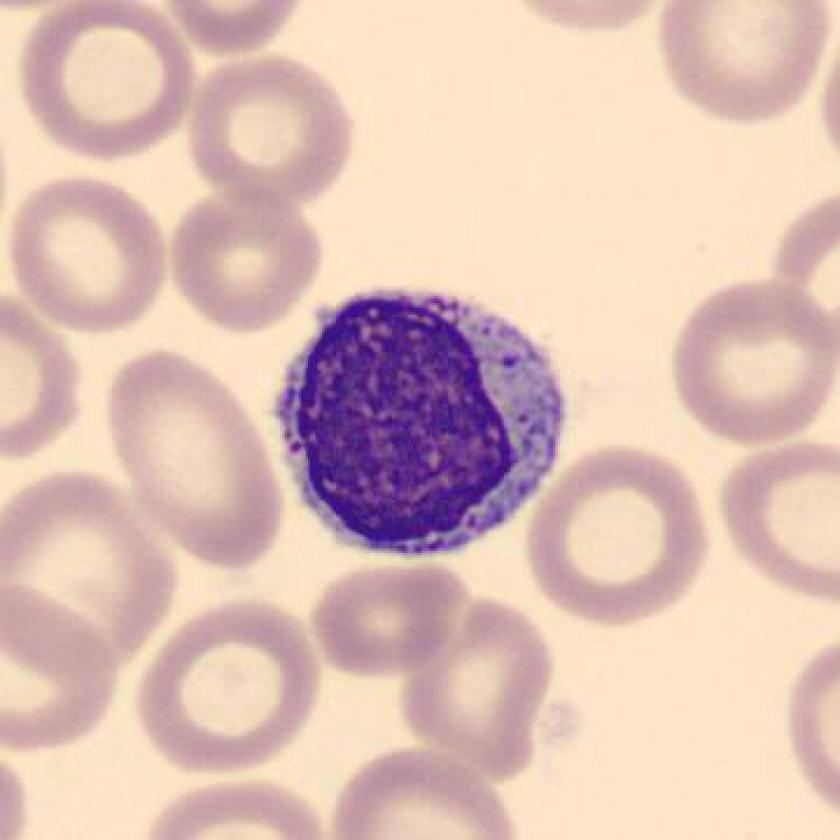lymphocyte: (260, 263, 582, 580)
